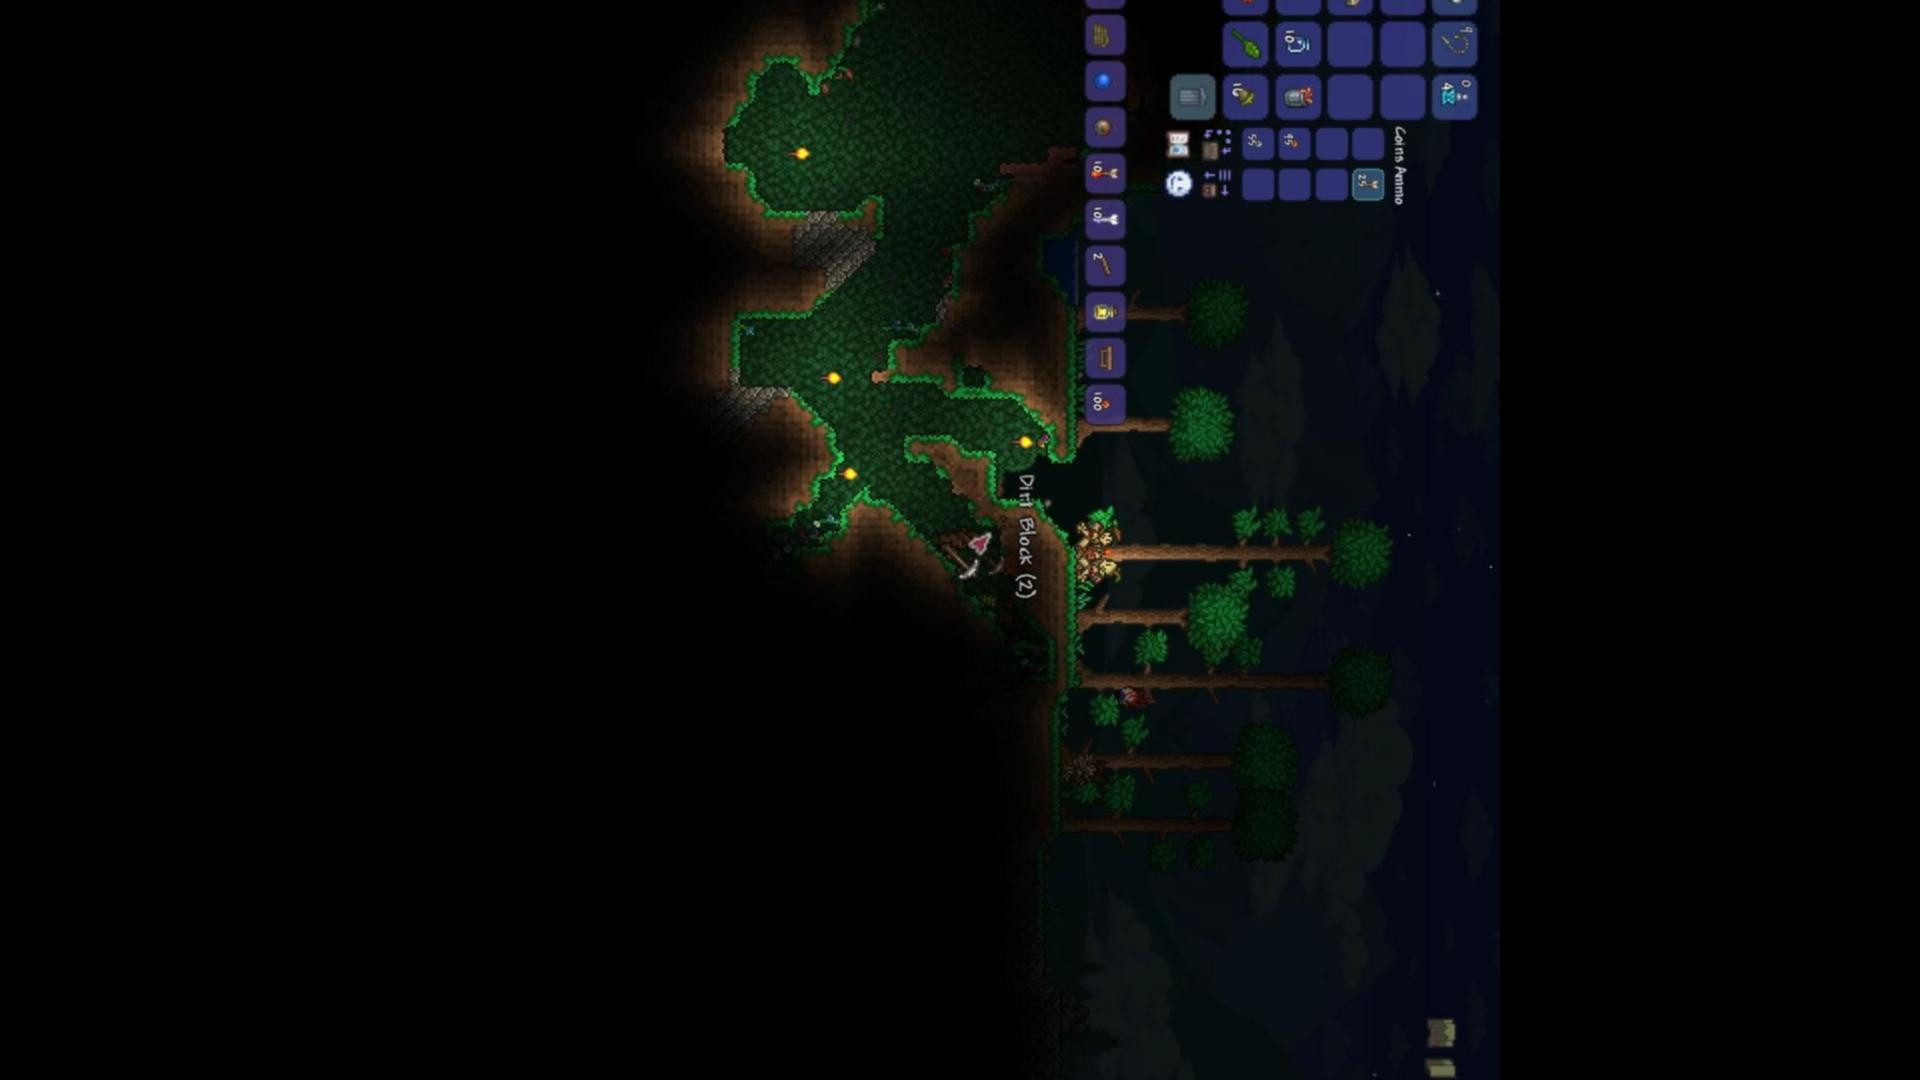dirt: (986, 497, 1084, 707), (721, 28, 852, 140), (760, 388, 852, 530), (899, 430, 998, 520), (725, 294, 837, 368), (870, 327, 971, 397), (856, 0, 981, 50), (1040, 314, 1080, 468), (724, 164, 803, 233), (965, 347, 1036, 406), (844, 189, 902, 244)
